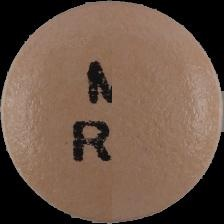0378-6709: (0, 0, 224, 224)
